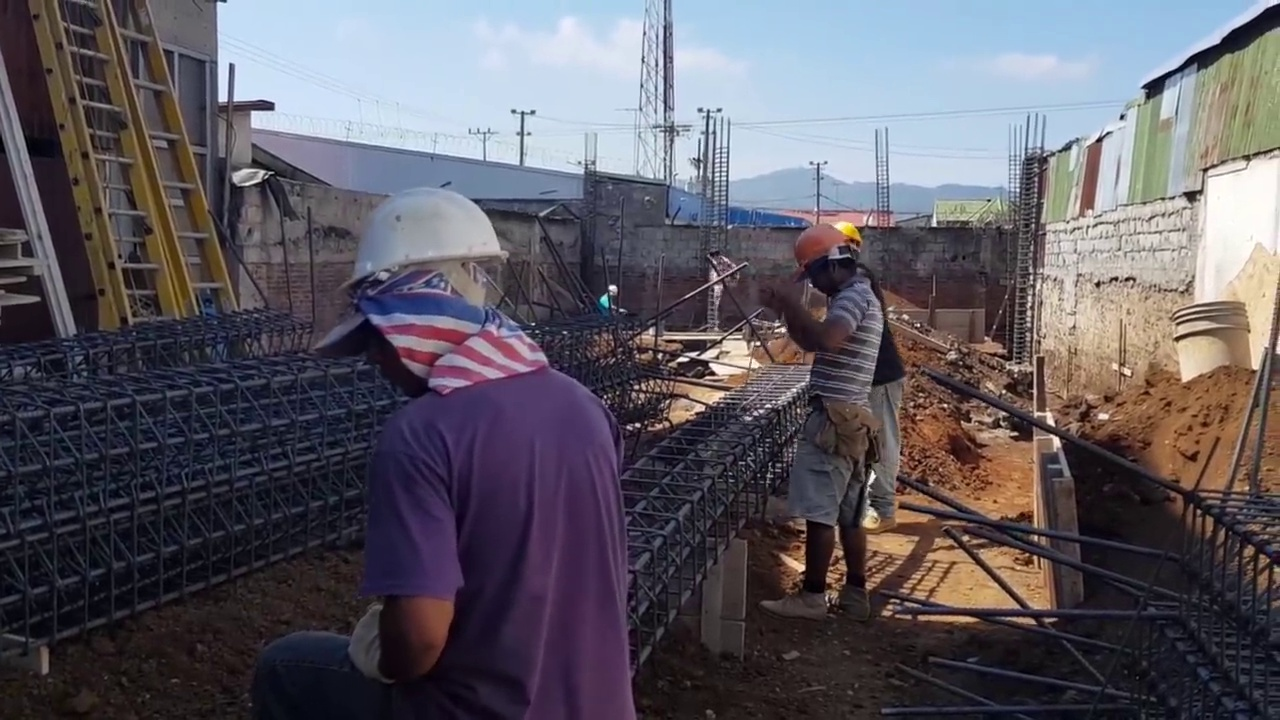helmet: (339, 196, 509, 304), (798, 221, 864, 277), (606, 285, 617, 299)
helmet-off: (708, 246, 721, 261)
helmet-on: (338, 192, 505, 379), (796, 219, 866, 298), (604, 284, 618, 304)
person: (325, 189, 640, 720), (744, 218, 881, 618), (835, 222, 906, 532), (702, 244, 740, 332), (598, 285, 617, 319)
